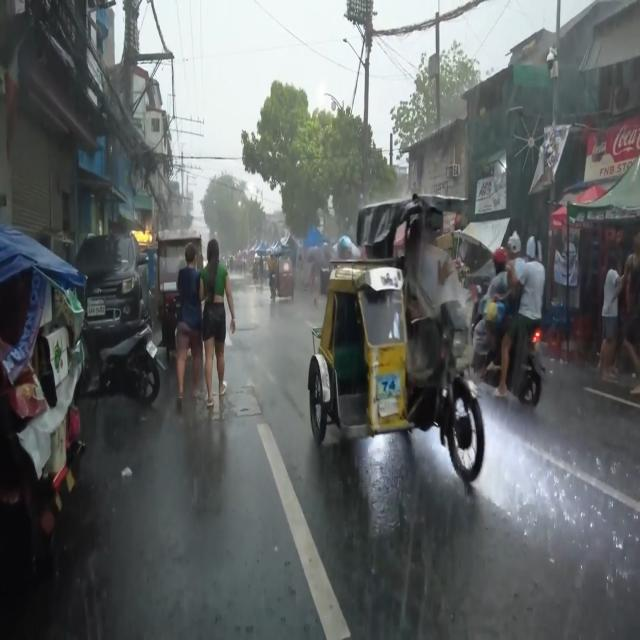invalid: (492, 246, 508, 274)
not_wearing: (526, 234, 543, 263), (507, 230, 522, 260)
